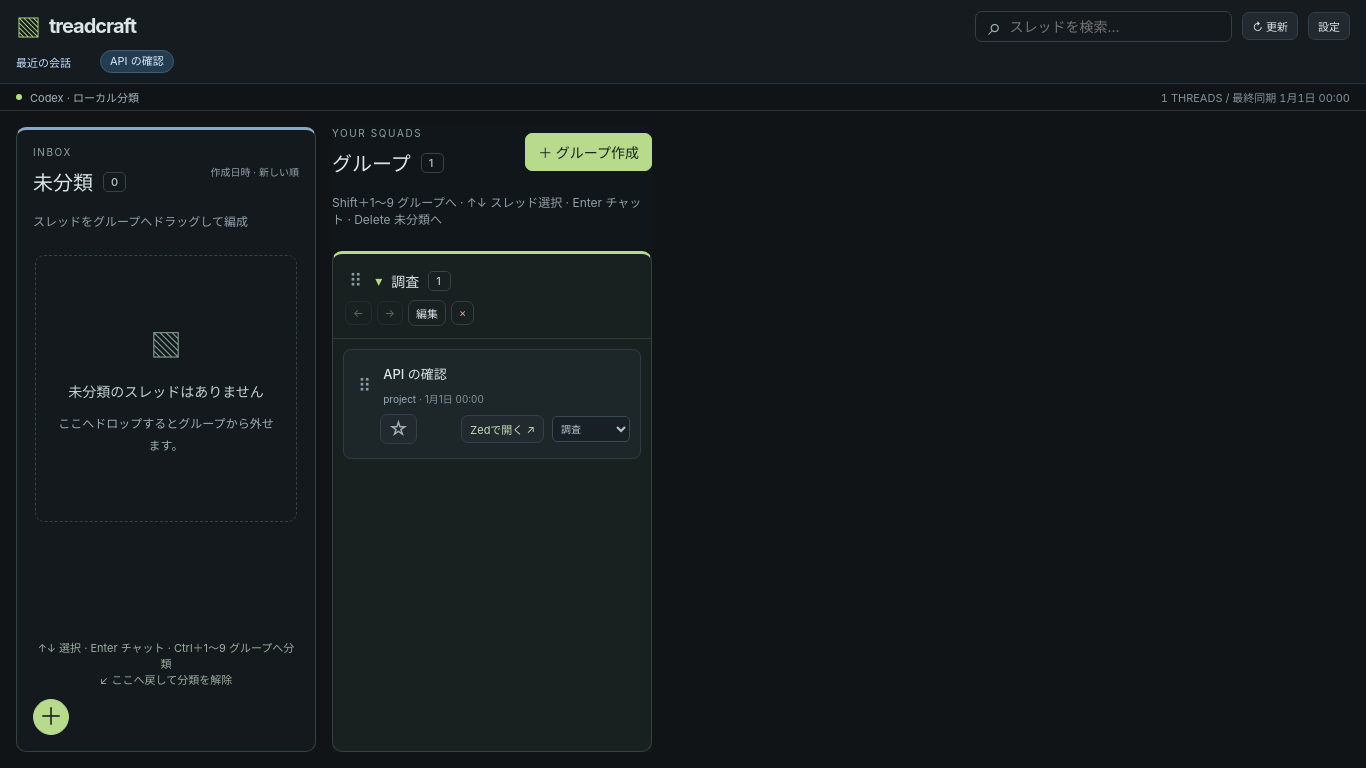
opens chat from the card background without opening Zed
What coordinates should you click on to do the following:
click the element "API の確認"
I would click on:
 (492, 404)
Its box is [343, 349, 641, 459].
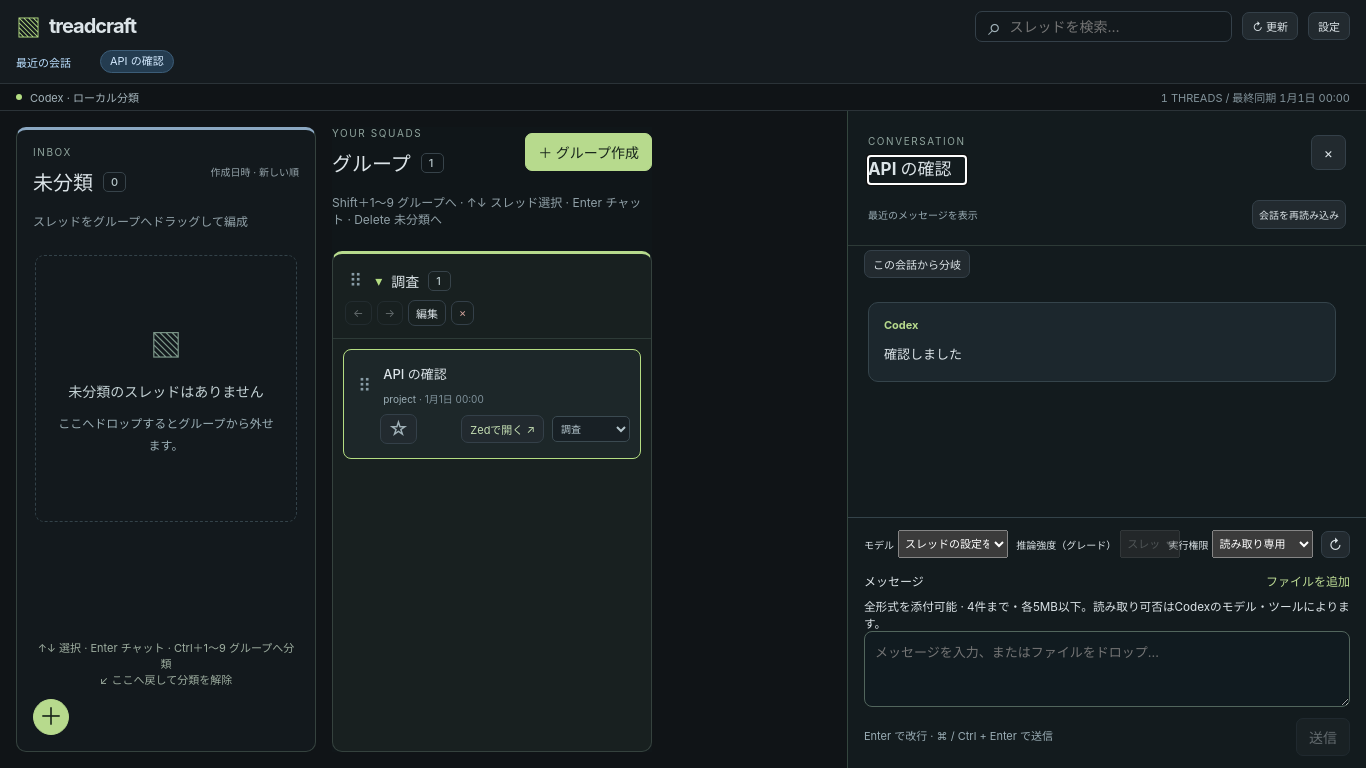
Now the text "確認しました" is shown, box [884, 346, 962, 362]
